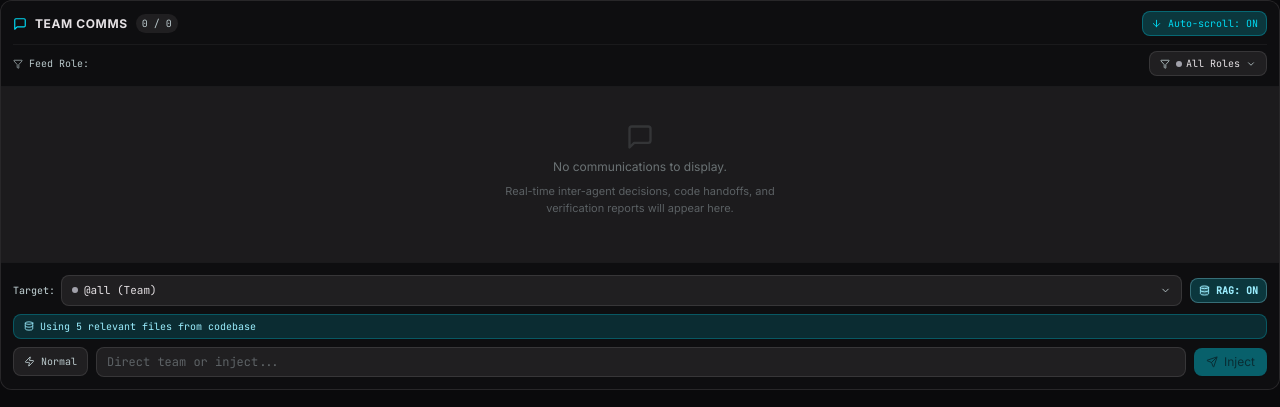
Scenario: Semantic RAG Frontend Test Suite › test_rag_toggle_in_chat_input: tests the Use RAG toggle and badge in TeamChatPanel
expect the element with test id "rag-context-badge" is shown: met, box x1=13 y1=314 x2=1267 y2=338
expect the element with test id "rag-context-badge" shows "relevant files from codebase": met, box x1=82 y1=320 x2=256 y2=332
Clicking toggle turns it OFF
Click the button with test id "rag-chat-toggle": (1228, 290) x1=1190 y1=278 x2=1267 y2=303
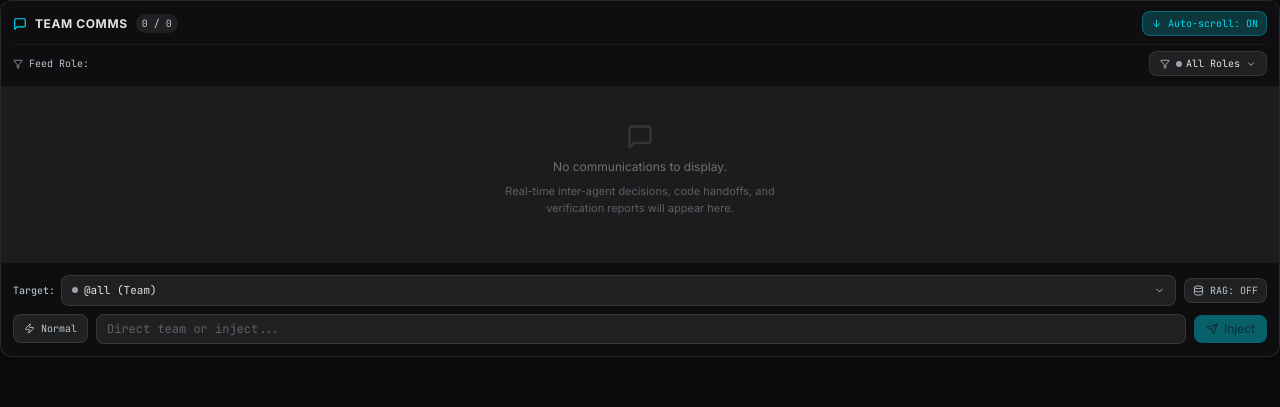
expect the button with test id "rag-chat-toggle" reads "RAG: OFF": met
expect the element with test id "rag-context-badge" is gone: met
Clicking toggle turns it back ON
Click the button with test id "rag-chat-toggle": (1226, 290) x1=1184 y1=278 x2=1267 y2=303
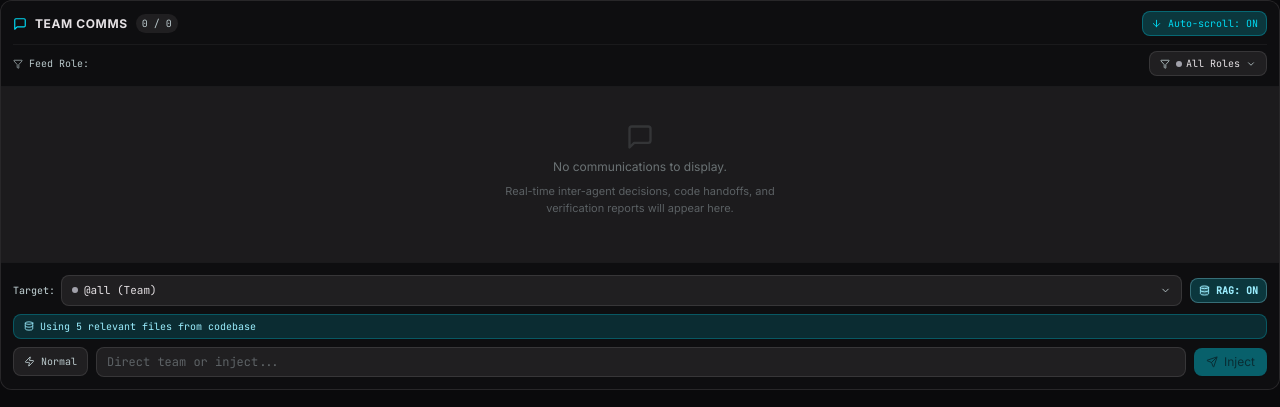
expect the button with test id "rag-chat-toggle" reads "RAG: ON": met, box x1=1190 y1=278 x2=1267 y2=303
expect the element with test id "rag-context-badge" is shown: met, box x1=13 y1=314 x2=1267 y2=338
